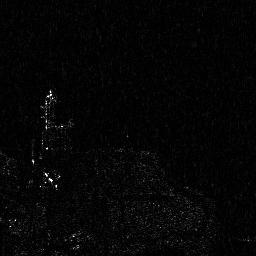ship: (42, 89, 58, 130)
